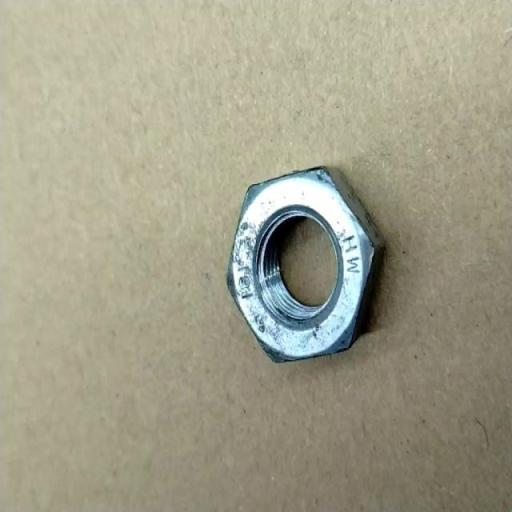Nut: (226, 166, 385, 362)
